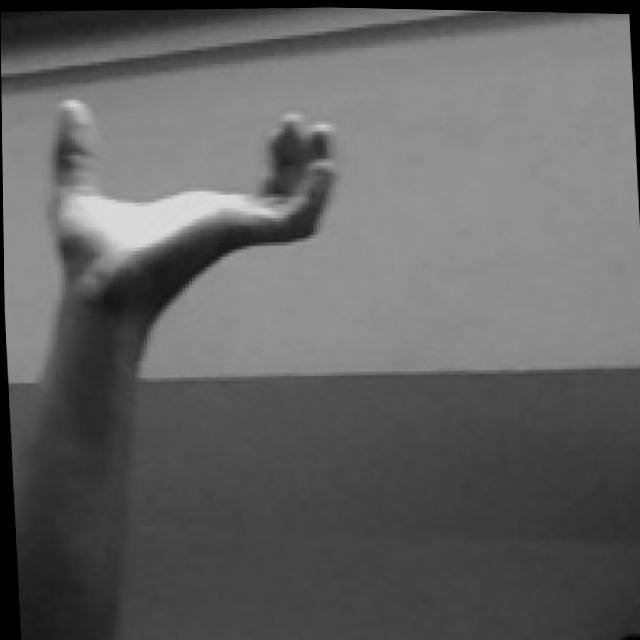space: (43, 89, 344, 293)
